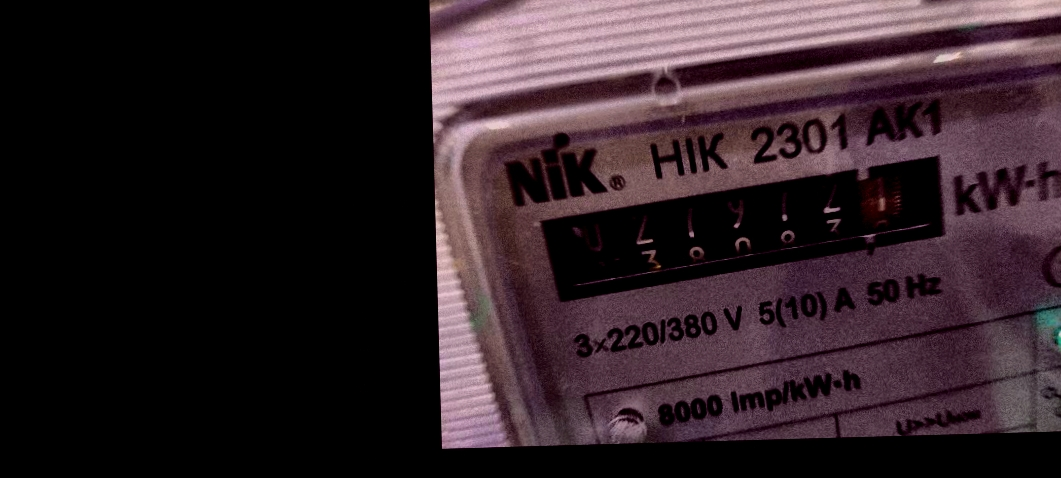0: (579, 216, 608, 253)
1: (871, 171, 894, 215)
2: (628, 206, 658, 246), (817, 177, 846, 214)
7: (770, 183, 797, 225), (677, 202, 701, 239)
9: (724, 193, 751, 229)
screen: (523, 145, 979, 312)
